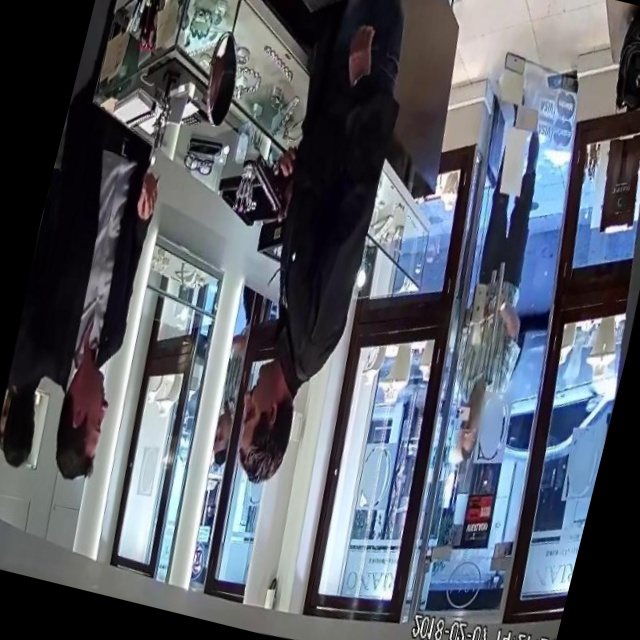gun: (225, 116, 313, 243)
